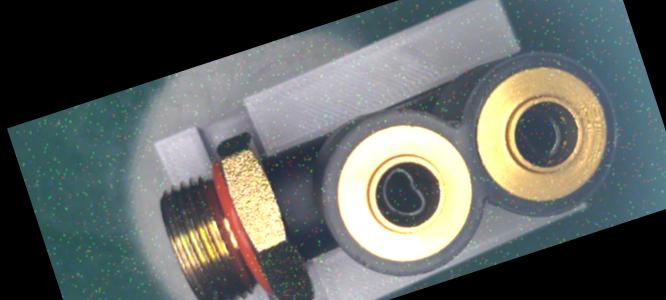off-centered: (373, 157, 435, 225), (508, 104, 567, 165)
